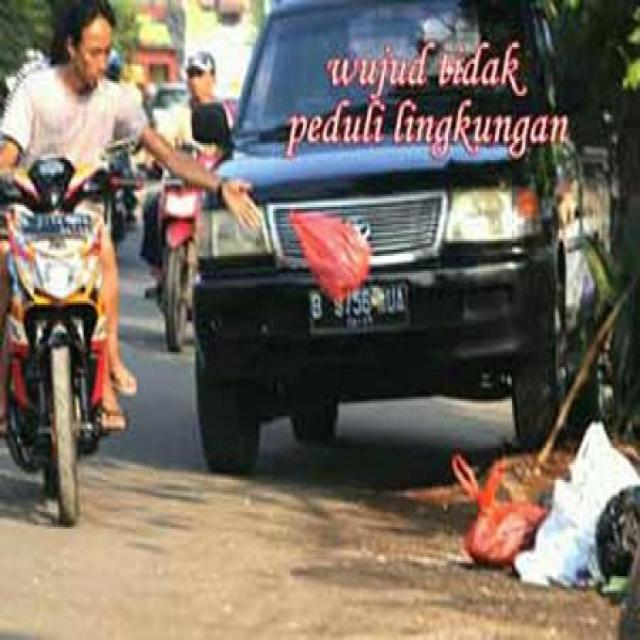sampah-detection: (515, 420, 640, 595), (444, 442, 538, 568), (289, 203, 377, 307)
